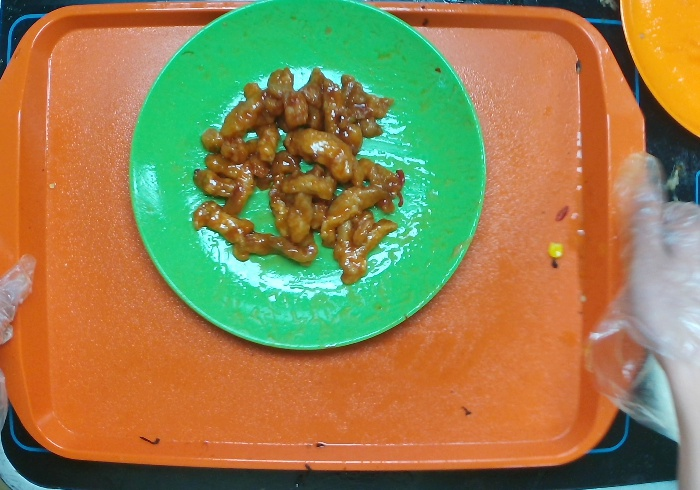HZYJPL-Lv_Se_Yuan_Pan: (106, 1, 494, 357)
